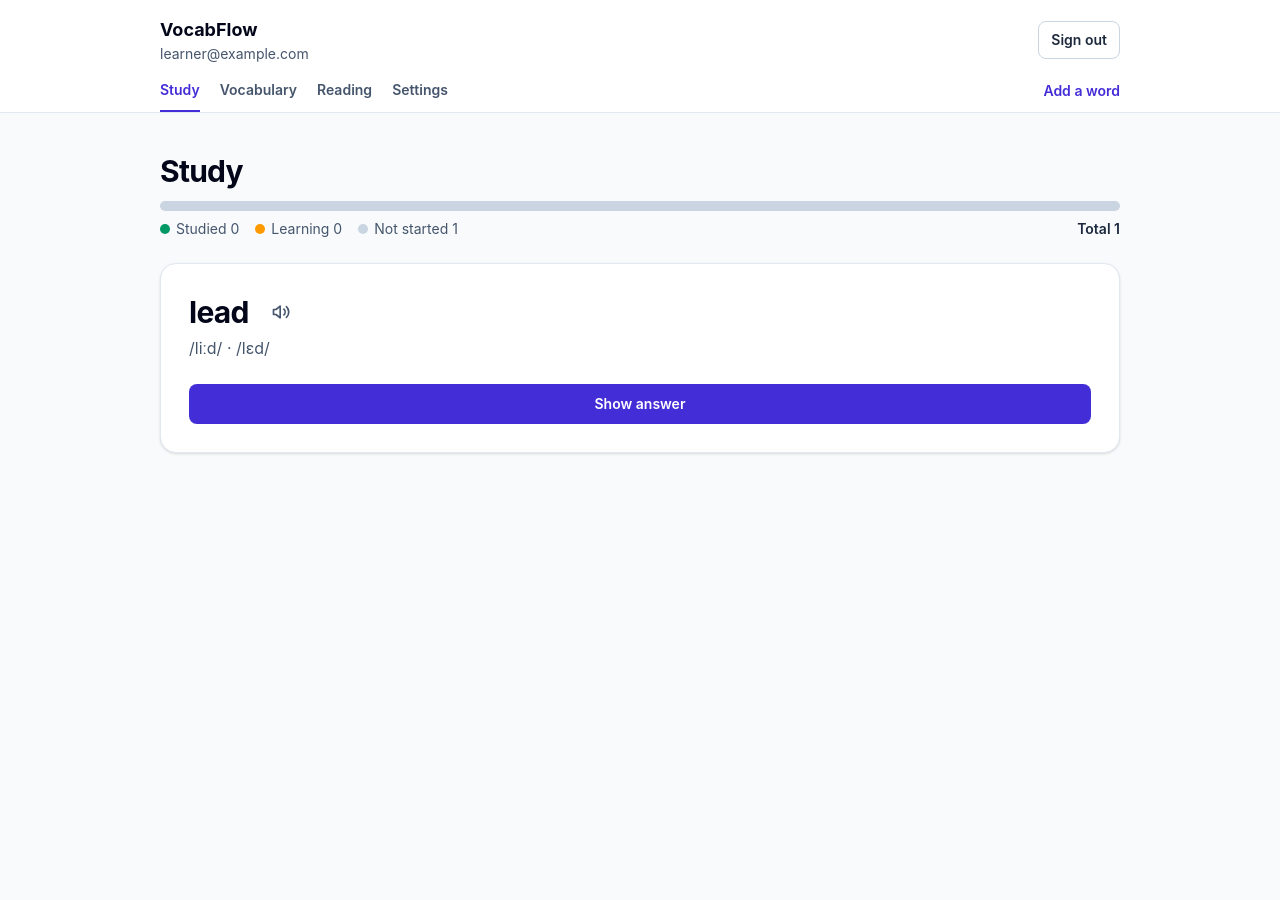
Test: the phonetic spelling is on the front of the card, with every distinct one for a word said in more than one way
Check: the text "/liːd/ · /lɛd/" is shown, box 188,337 -> 297,358
// Once the answer is shown, each meaning carries its own, so the front line is not repeated.
Click the button "Show answer". click: (640, 404)
box: 189,384 -> 1091,424
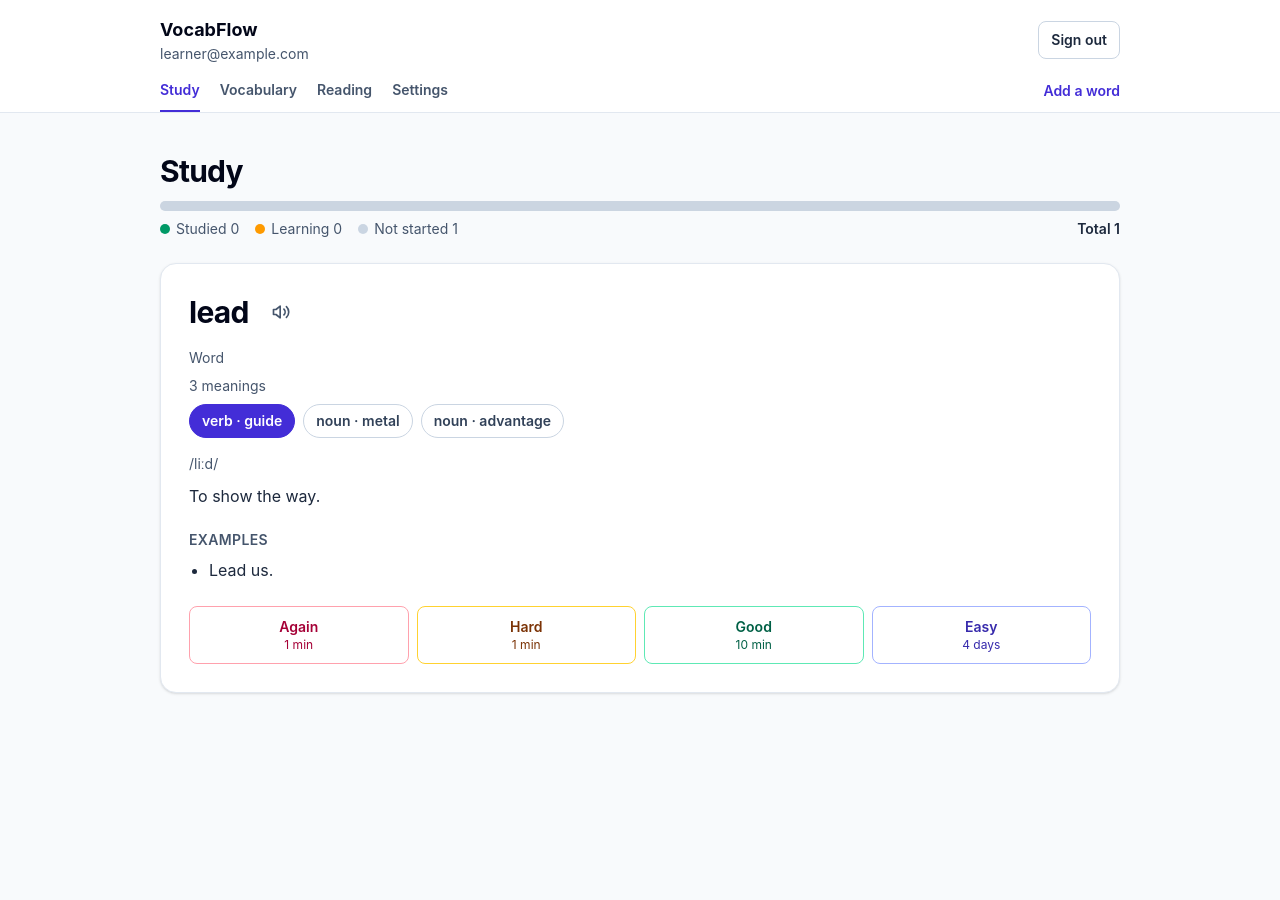
Check: the text "/liːd/ · /lɛd/" is gone
Click the tab "noun · metal". click: (358, 421)
box: 303,404 -> 413,438
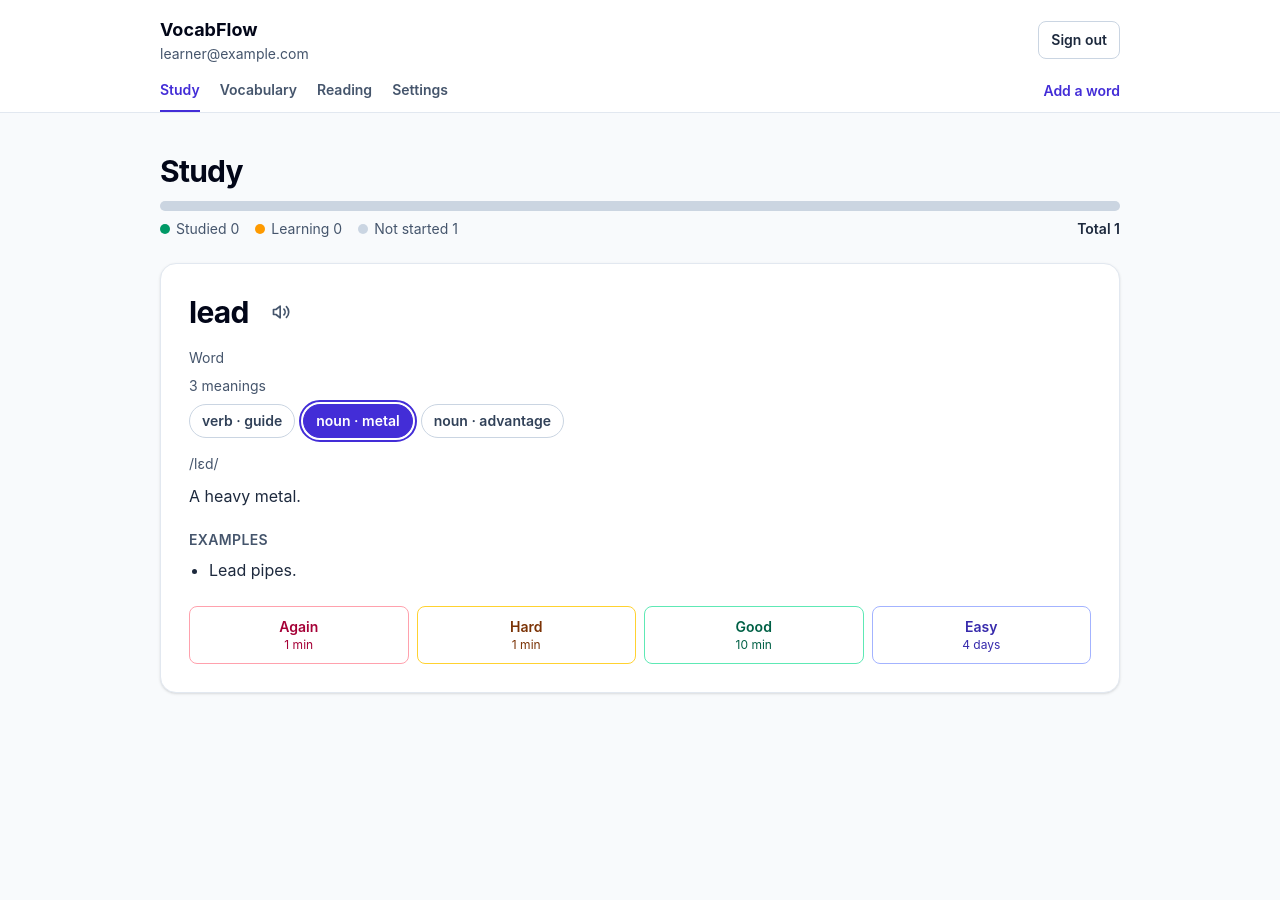
Check: the text "/lɛd/" is shown, box 189,455 -> 219,472
